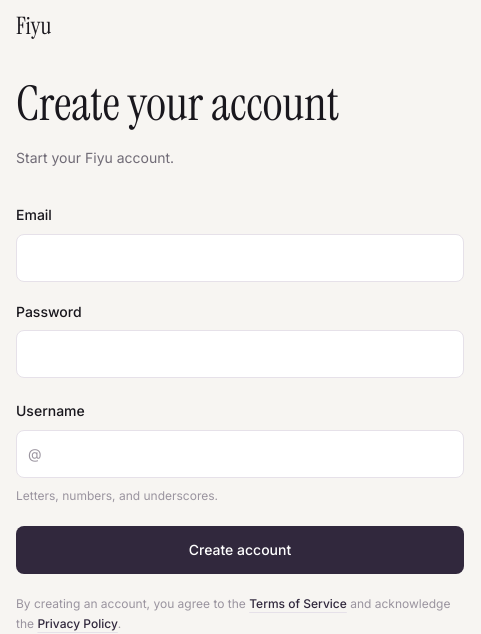
Test: public account milestone › creates an account and handles provider email verification
The image size is (481, 634).
Check: the text "By creating an account, you agree to the" is shown, box [16,596,246,611]
Type "person@example.com" into the field labelled "Email" at (240, 258), box [16,234,464,282]
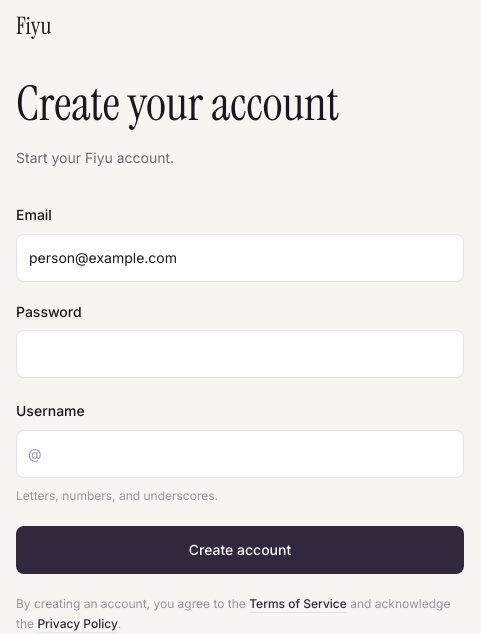
Type "provider-password" into the password field labelled "Password" at (240, 354), box [16,330,464,378]
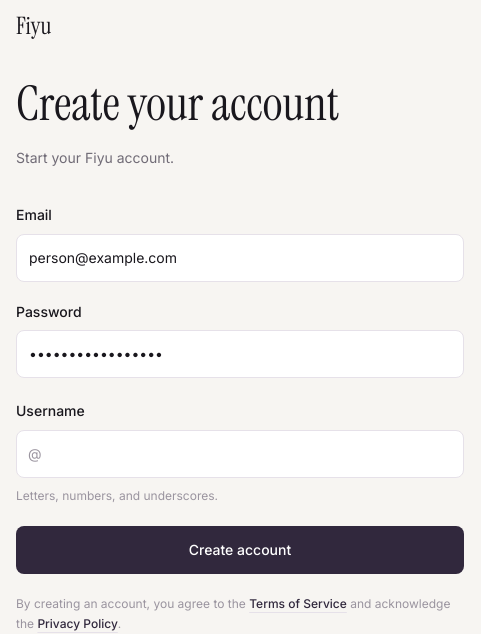
Type "person" into the field labelled "Username" at (240, 454), box [16,430,464,478]
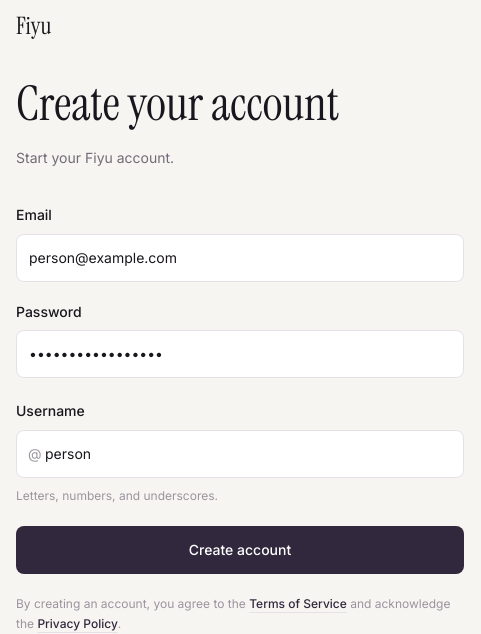
Click the button "Create account" at (240, 550), box [16,526,464,574]
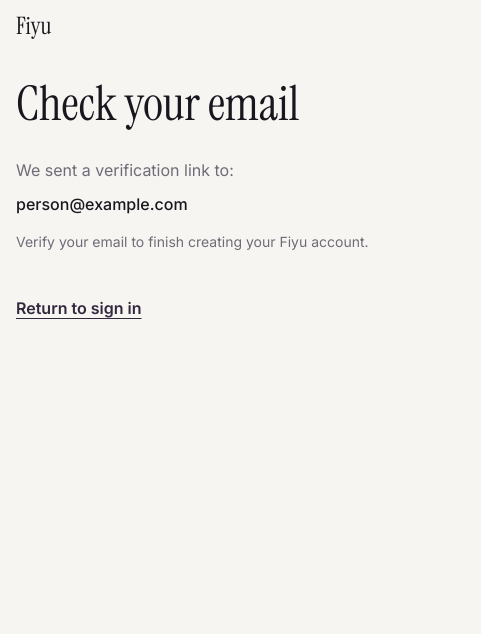
Check: the heading "Check your email" is shown, box [16,72,299,135]
Check: the text "Verify your email to finish creating your Fiyu account." is shown, box [16,233,369,250]
